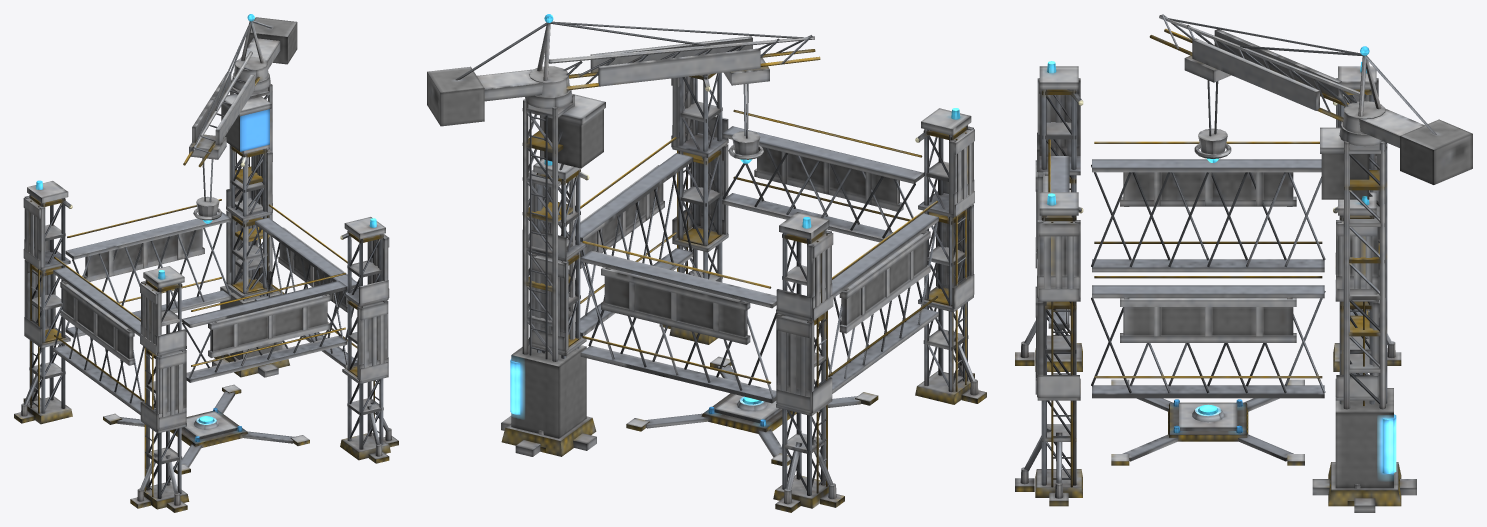
Rendered from allied_construction_rig.glb.
3 views of the same model, side by side, from view 1: azimuth 30°, elevation 25°; view 2: azimuth 150°, elevation 25°; view 3: azimuth 270°, elevation 25° (orthographic). The views are drawn at different scales.
Parts seen in each view (by area): view 1: CornerTower_SW, CornerTower_SE, SpanBeam_S, CornerTower_NW, SpanBeam_N, CraneJib, SpanBeam_W, CraneMast, CornerTower_NE, SpanBeam_E, Hull; view 2: CraneMast, CraneJib, SpanBeam_N, CornerTower_NW, CornerTower_SW, SpanBeam_S, CornerTower_SE, SpanBeam_W, SpanBeam_E, CornerTower_NE, Hull; view 3: CraneMast, SpanBeam_E, SpanBeam_W, CraneJib, CornerTower_SE, CornerTower_SW, CornerTower_NE, Hull, CornerTower_NW, SpanBeam_S.
Part boxes in pixels (left/top/right/bottom): CornerTower_SW: left=130, top=266, right=189, bottom=512; CornerTower_SE: left=340, top=217, right=398, bottom=463; SpanBeam_S: left=182, top=273, right=347, bottom=382; CornerTower_NW: left=14, top=180, right=72, bottom=424; SpanBeam_N: left=65, top=199, right=230, bottom=337; CraneJib: left=183, top=14, right=297, bottom=223; SpanBeam_W: left=53, top=257, right=155, bottom=414; CraneMast: left=212, top=72, right=289, bottom=377; CornerTower_NE: left=226, top=144, right=272, bottom=301; SpanBeam_E: left=255, top=204, right=359, bottom=368; Hull: left=103, top=384, right=309, bottom=474; CraneMast: left=501, top=85, right=605, bottom=456; CraneJib: left=427, top=14, right=820, bottom=163; SpanBeam_N: left=580, top=241, right=777, bottom=403; CornerTower_NW: left=773, top=212, right=844, bottom=512; CornerTower_SW: left=915, top=108, right=986, bottom=404; SpanBeam_S: left=722, top=109, right=923, bottom=242; CornerTower_SE: left=659, top=73, right=728, bottom=344; SpanBeam_W: left=818, top=201, right=938, bottom=393; SpanBeam_E: left=566, top=137, right=693, bottom=336; CornerTower_NE: left=531, top=159, right=589, bottom=452; Hull: left=626, top=356, right=878, bottom=465; CraneMast: left=1312, top=122, right=1416, bottom=512; SpanBeam_E: left=1091, top=276, right=1325, bottom=398; SpanBeam_W: left=1091, top=141, right=1325, bottom=272; CraneJib: left=1149, top=14, right=1472, bottom=184; CornerTower_SE: left=1015, top=192, right=1083, bottom=506; CornerTower_SW: left=1015, top=61, right=1083, bottom=371; CornerTower_NE: left=1333, top=192, right=1401, bottom=506; Hull: left=1111, top=379, right=1304, bottom=465; CornerTower_NW: left=1333, top=62, right=1401, bottom=371; SpanBeam_S: left=1043, top=139, right=1069, bottom=328.
Size of what is drawn, in the model's own units: 6.14 by 6.58 by 6.14.
Materials: 1 (1 with a texture image).
